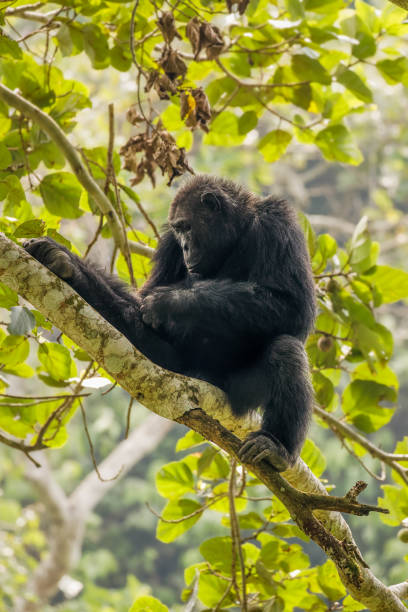chimpanzee: (145, 159, 267, 290)
